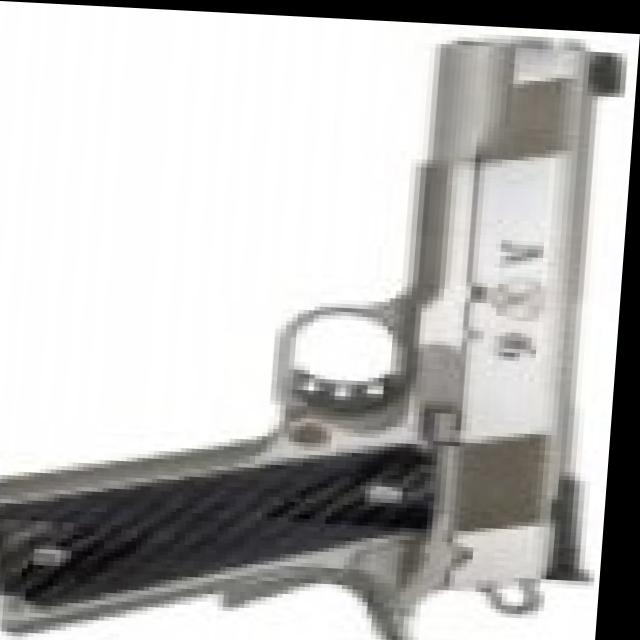handgun: (0, 5, 640, 640)
